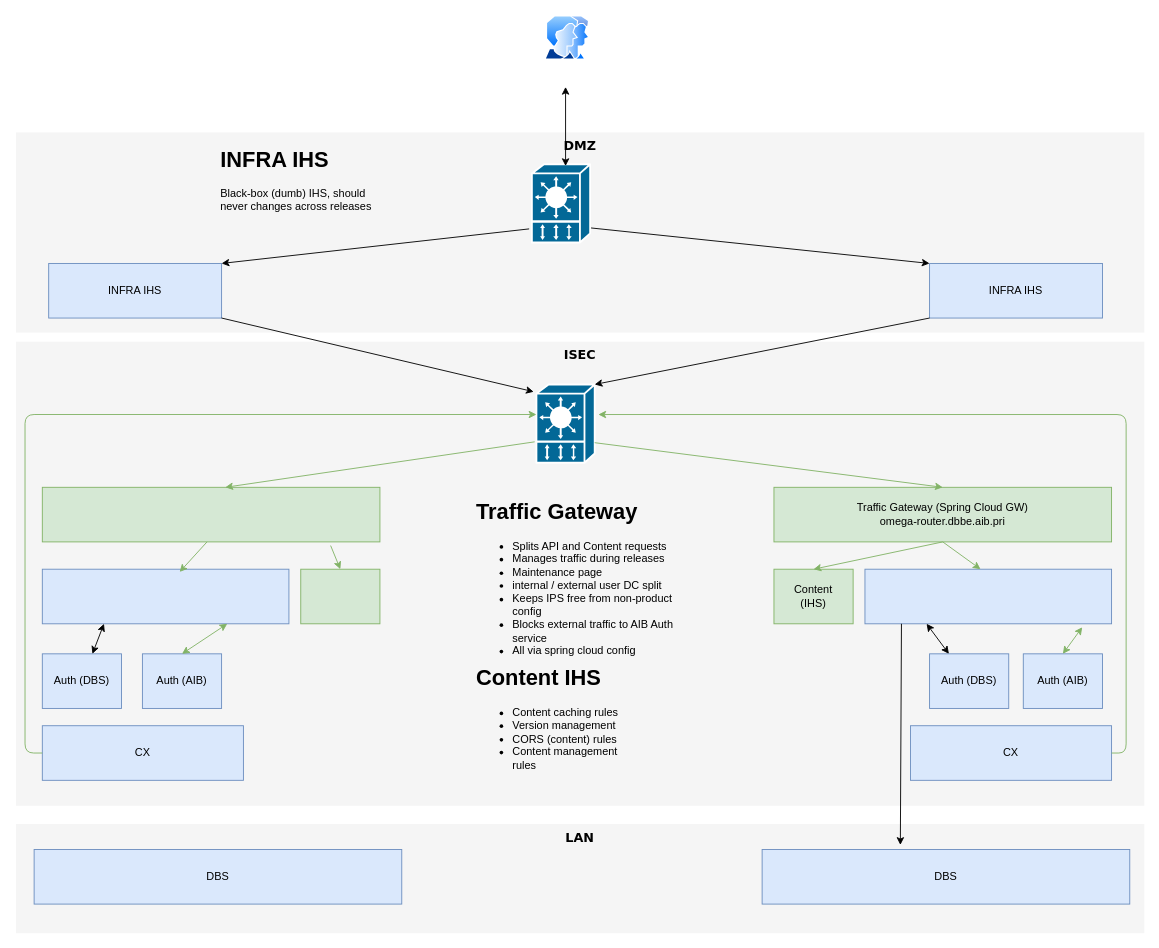
This 1159x948 diagram has some shape labels left out. The shapes that lost their labels are listed below. From the top down, each one's centre as x and y in pixels, then its label:
At (567,37): "External Users".
At (561,203): "IHS F5 VIP".
At (565,423): "DBB VIP".
At (210,514): "Traffic Gateway (Spring Cloud GW) alpha-router.dbbe.aib.pri".
At (165,596): "API Gateway (Edge) alphagateway.aib.pri".
At (340,596): "Content Gateway (IHS)".
At (988,596): "Edge omegagateway.aib.pri".
